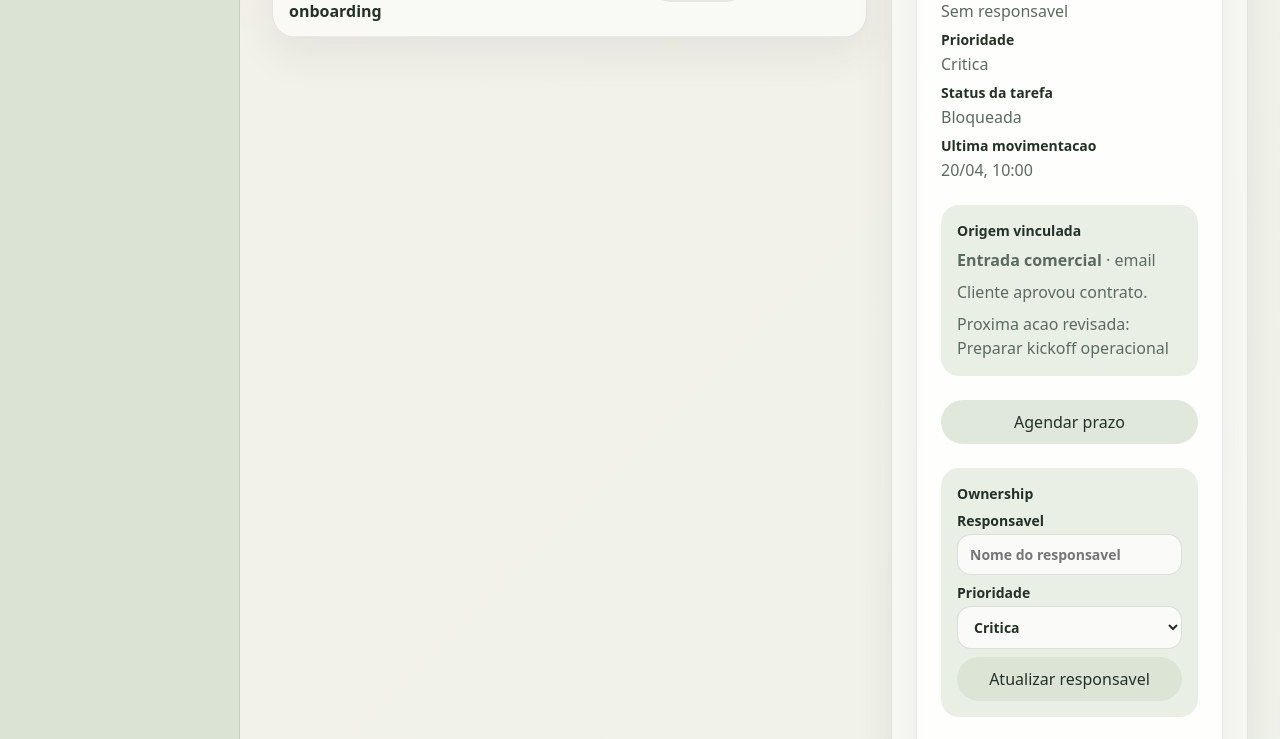
Test: execution workspace shell › schedules an agenda item from the selected task
The width and height of the screenshot is (1280, 739).
(page scrolled)
Click the button "Agendar prazo" at (1070, 422), box [941,400,1198,444]
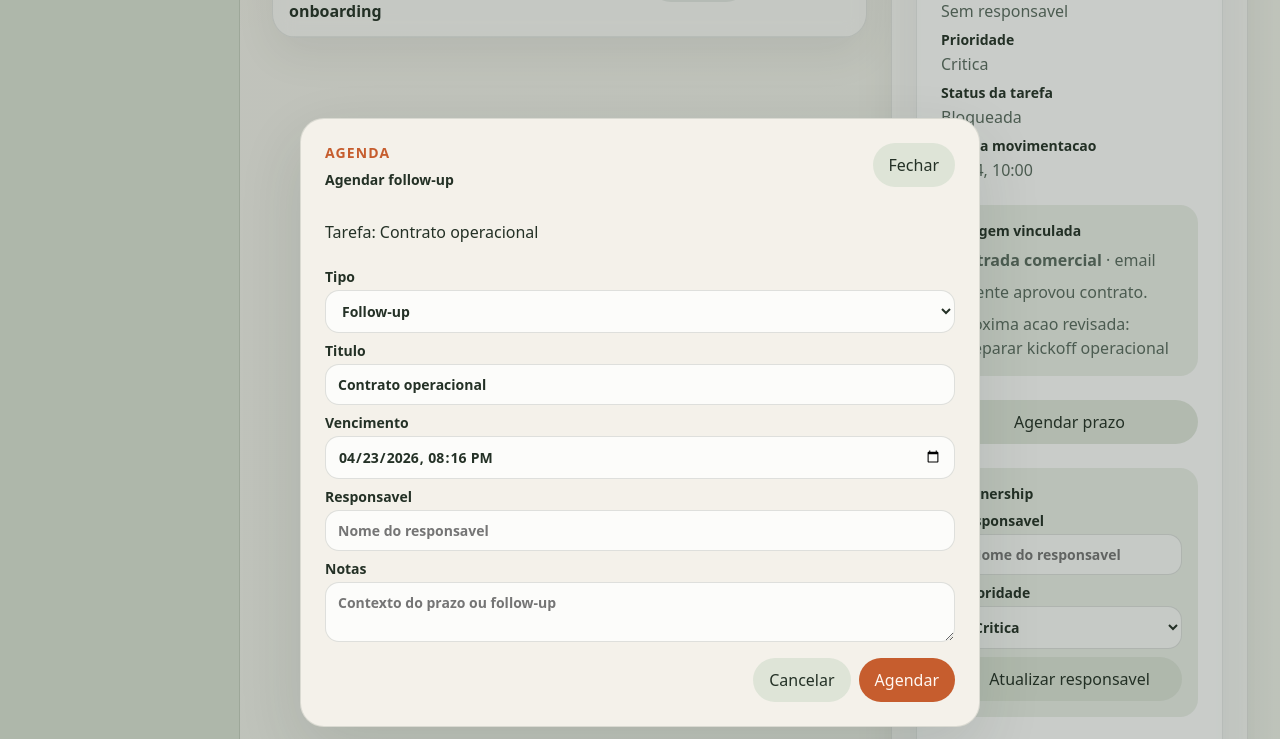
Replace the text in the field named "Titulo do agendamento" with "Retomar bloqueio" at (640, 384), box [325,364,955,404]
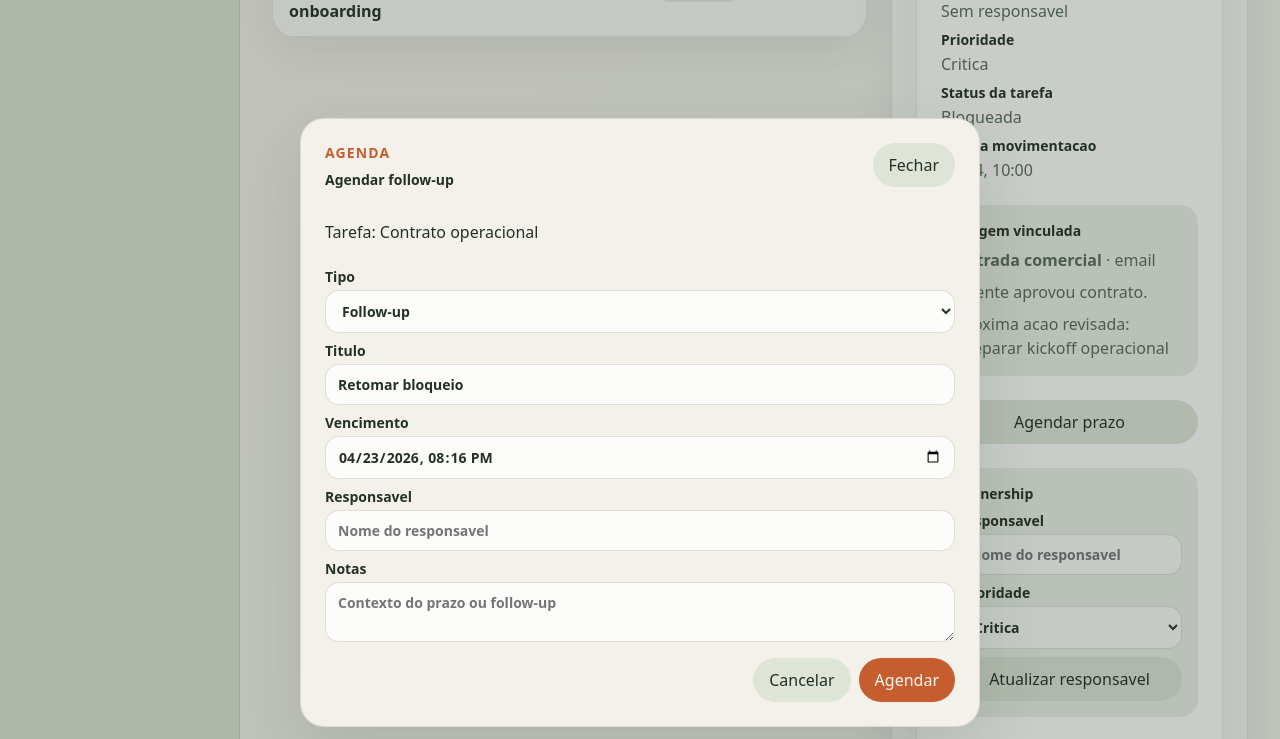
Click the button "Agendar" at (907, 680), box [859,658,955,702]
(page scrolled)
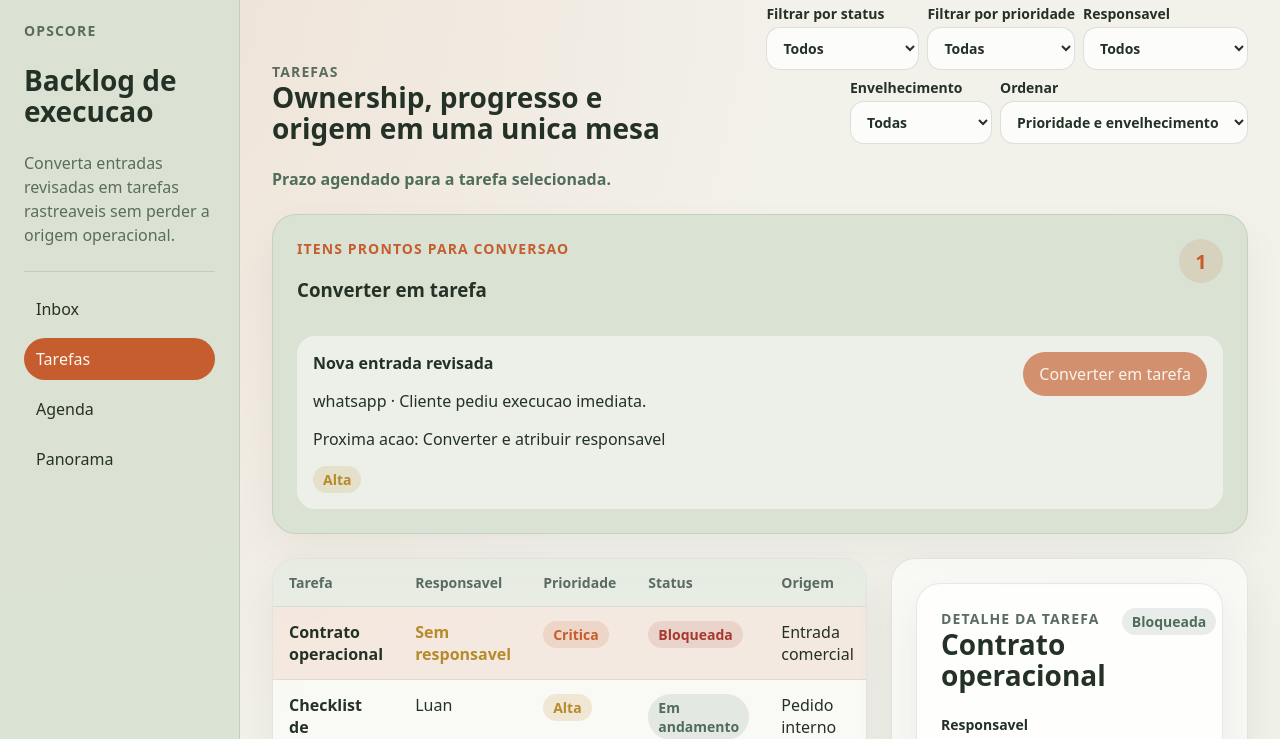
Check: the text "Prazo agendado para a tarefa selecionada." is shown, box [272,168,611,190]
